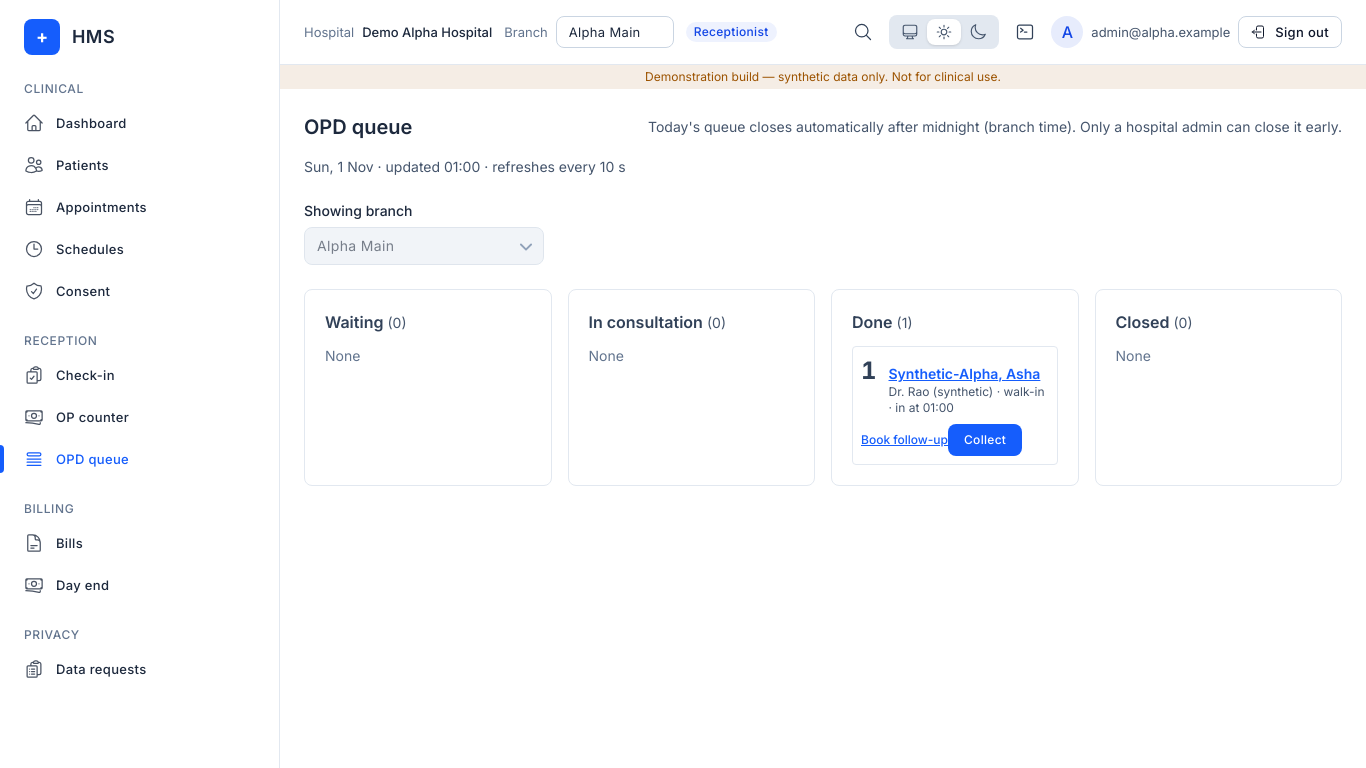
QueueBoardPage › front desk sees Collect on each row and it opens the bill beside the queue (#175)
This screenshot has width=1366, height=768.
Click the button with aria-label "Collect for token 1".
click(985, 440)  # box [948,424,1022,456]
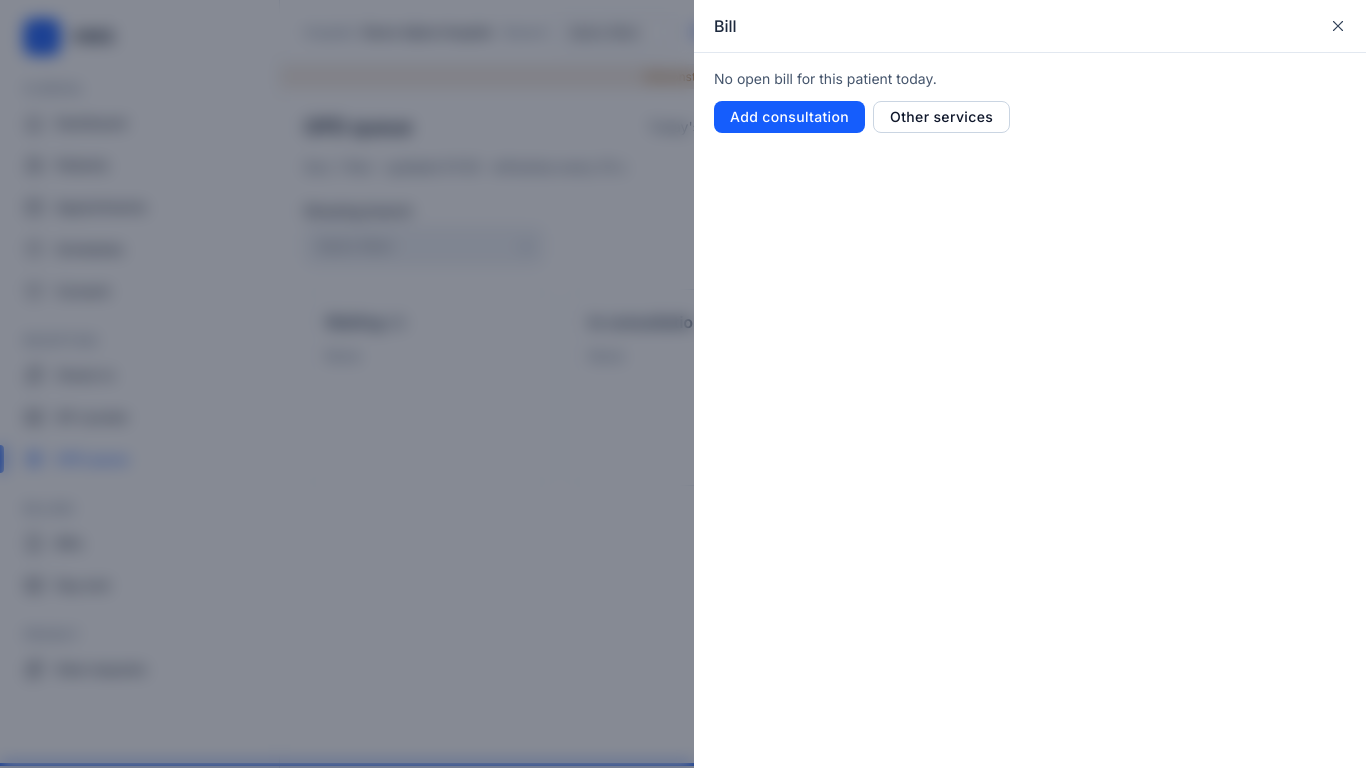
Expected: the element with test id "billing-panel-empty" is shown, [714,70,1010,133]
Expected: the heading "Bill" is shown, [714,14,737,38]
